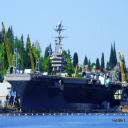Portanaves: (5, 21, 124, 114)
